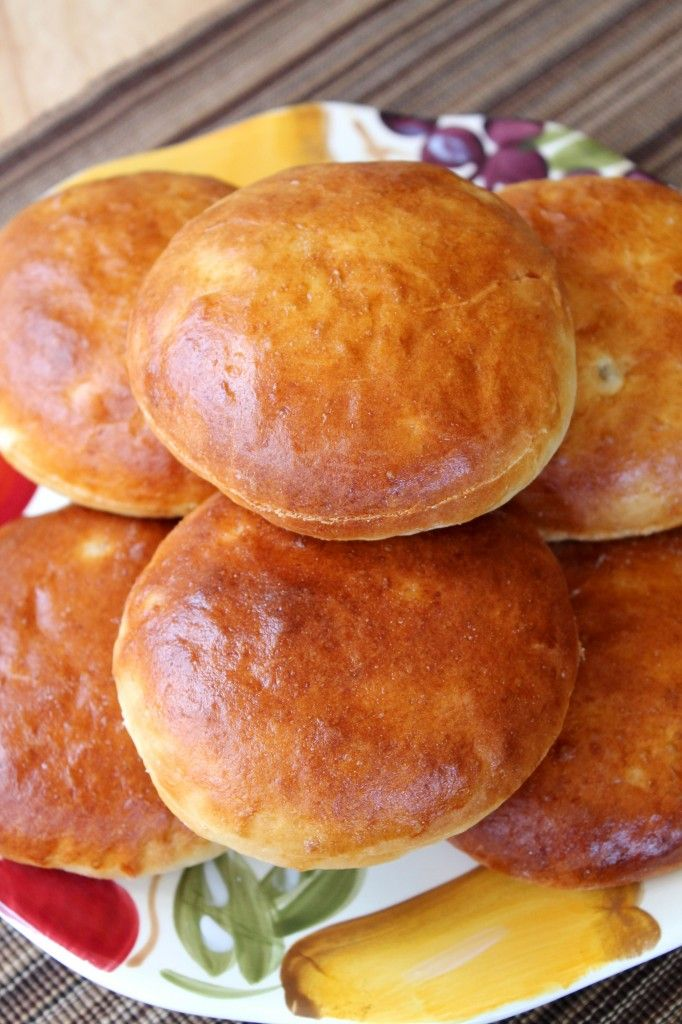hamburger_buns: (76, 494, 631, 846), (112, 158, 605, 530)
